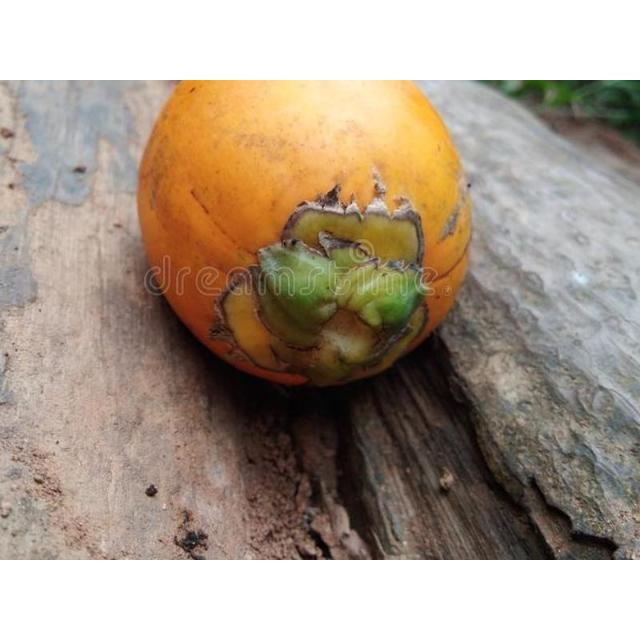good: (136, 80, 474, 390)
